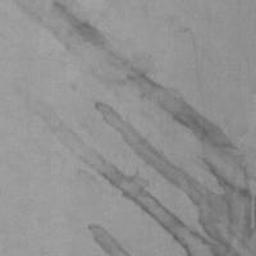Water spot: (12, 0, 256, 256), (86, 223, 132, 256)
